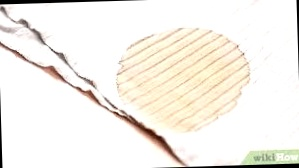coffee: (119, 26, 251, 130)
